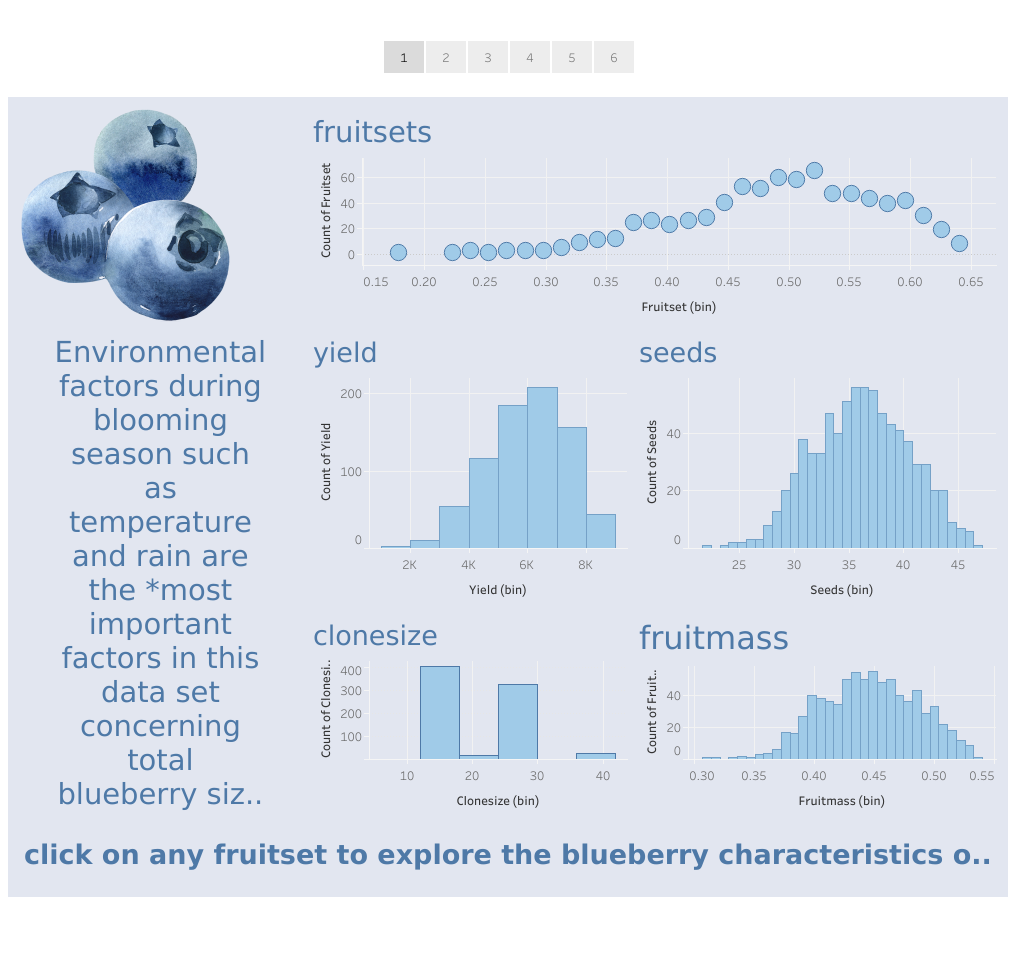

This screenshot's page, from the dashboard's own definition file:
{"tool":"tableau","page":{"name":"Blueberry HarvestD","canvas":[1000,800],"ordinal":0},"visuals":[{"type":"image","param":"/Users/sareenah/Desktop/blueberries/Blueberries 2/blueberry_8.png","box":[8,8,289,221.4]},{"type":"worksheet","title":"fruitsets","mark":"Circle","rows":["fruitset"],"cols":["Fruitset (bin)"],"box":[297,8,695,221.4]},{"type":"blank","box":[8,229.4,32,493.6]},{"type":"text","box":[40,229.4,225,493.6]},{"type":"blank","box":[265,229.4,32,493.6]},{"type":"worksheet","title":"yield","mark":"Automatic","rows":["yield"],"cols":["Yield (bin)"],"box":[297,229.4,326,282.1]},{"type":"worksheet","title":"seeds","mark":"Automatic","rows":["seeds"],"cols":["Seeds (bin)"],"box":[623,229.4,369,282.1]},{"type":"worksheet","title":"clonesize","mark":"Automatic","rows":["clonesize"],"cols":["Clonesize (bin)"],"box":[297,511.5,326,211.5]},{"type":"worksheet","title":"fruitmass","mark":"Automatic","rows":["fruitmass"],"cols":["Fruitmass (bin)"],"box":[623,511.5,369,211.5]},{"type":"text","box":[8,723,984,69]}]}

Visuals, with their boxes on the page's 1000x800 design canvas (x1, y1, x2, y2). These are canvas units, not pixel positions in the 1015x963 screenshot, which may show the page scaled, cropped or inside an application window:
image: pyautogui.locateOnScreen(8, 8, 297, 229)
"fruitsets" worksheet (Circle marks): pyautogui.locateOnScreen(297, 8, 992, 229)
blank: pyautogui.locateOnScreen(8, 229, 40, 723)
text: pyautogui.locateOnScreen(40, 229, 265, 723)
blank: pyautogui.locateOnScreen(265, 229, 297, 723)
"yield" worksheet: pyautogui.locateOnScreen(297, 229, 623, 512)
"seeds" worksheet: pyautogui.locateOnScreen(623, 229, 992, 512)
"clonesize" worksheet: pyautogui.locateOnScreen(297, 512, 623, 723)
"fruitmass" worksheet: pyautogui.locateOnScreen(623, 512, 992, 723)
text: pyautogui.locateOnScreen(8, 723, 992, 792)
